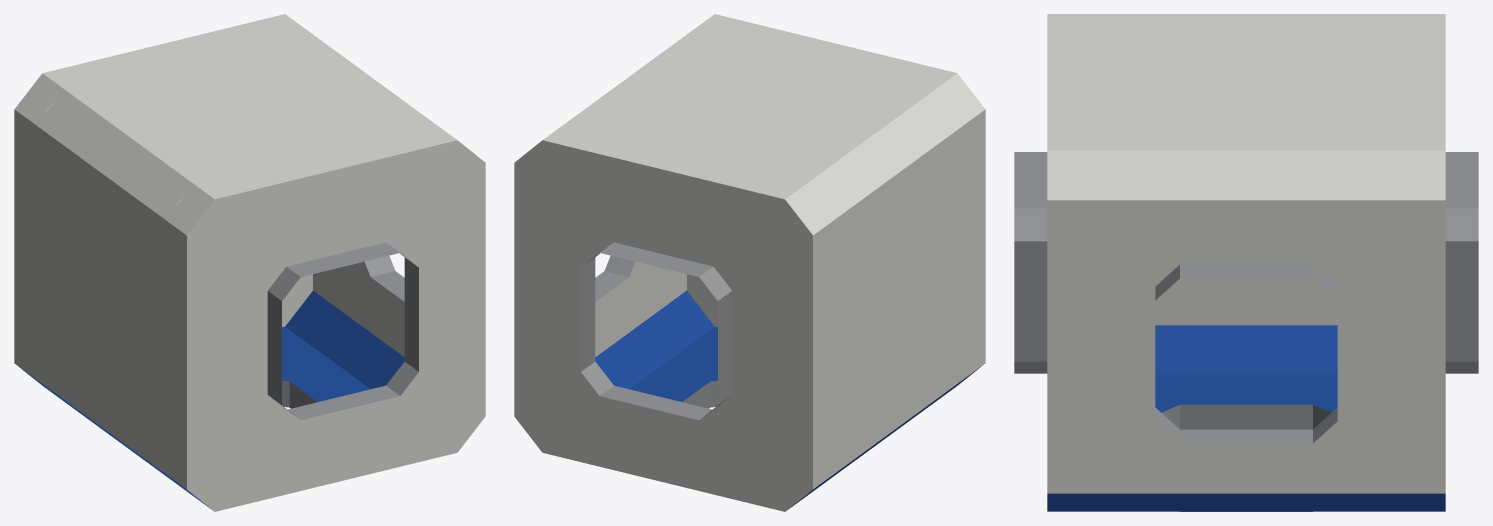
File: SM_Nodo_Montevideo_Casco.fbx
3 renders of one model, left to right at view 1: azimuth 30°, elevation 25°; view 2: azimuth 150°, elevation 25°; view 3: azimuth 270°, elevation 25°, orthographic. The views are drawn at different scales.
Parts seen in each view (by area): view 1: SM_Nodo_Montevideo_Casco; view 2: SM_Nodo_Montevideo_Casco; view 3: SM_Nodo_Montevideo_Casco.
Part boxes in pixels (x1=…): SM_Nodo_Montevideo_Casco: x1=14, y1=14, x2=485, y2=511; SM_Nodo_Montevideo_Casco: x1=514, y1=14, x2=985, y2=511; SM_Nodo_Montevideo_Casco: x1=1014, y1=14, x2=1478, y2=511.
Size of the model in its own units: 2.6 by 2.6 by 2.8.
